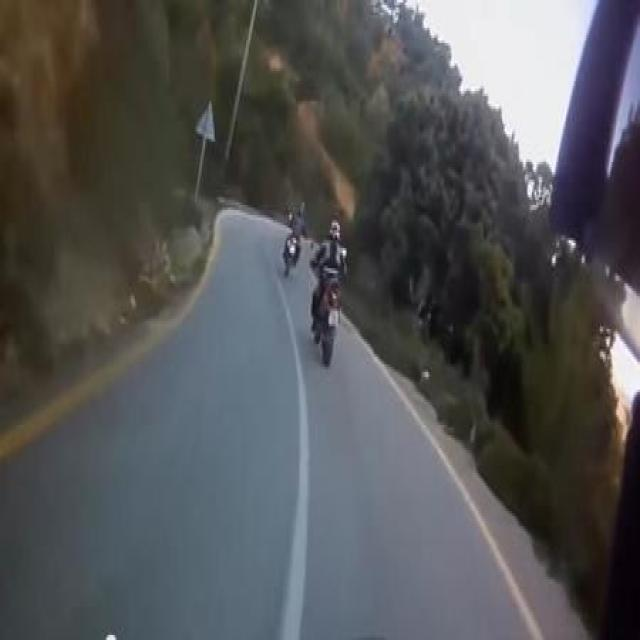MOTORCYCLE: (320, 264, 337, 368), (286, 213, 300, 279)
